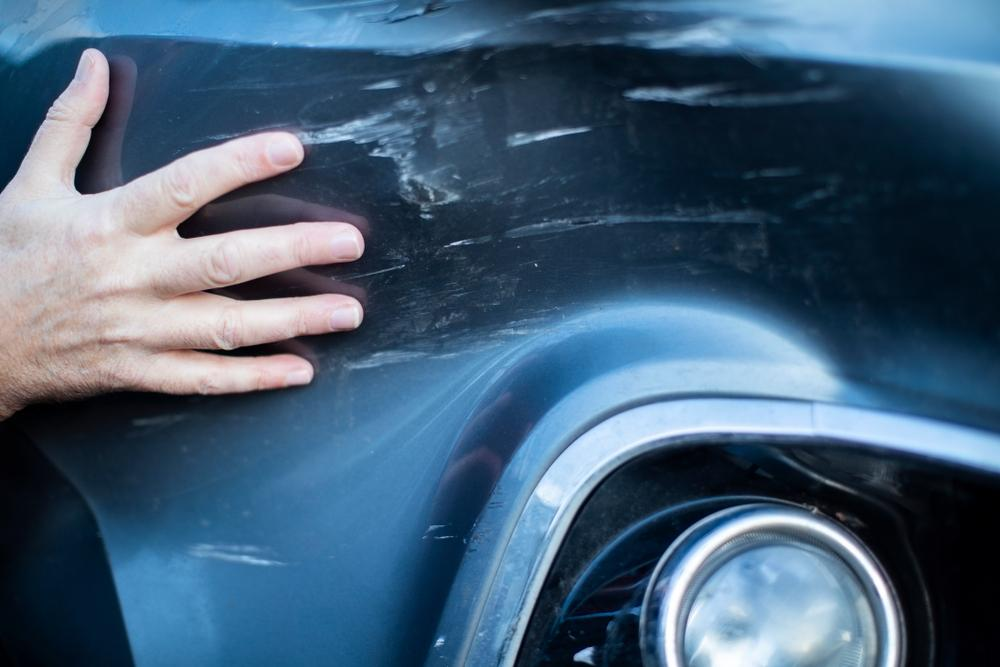dent: (392, 3, 895, 394)
scratch: (305, 79, 416, 165), (171, 539, 297, 570)
